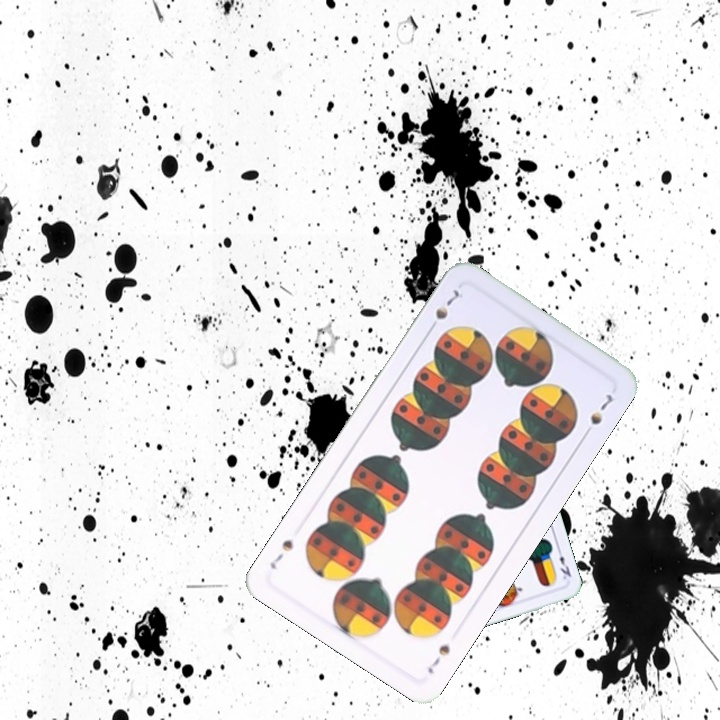EK: (553, 544, 574, 582)
S7: (424, 285, 462, 335), (423, 640, 453, 677)
